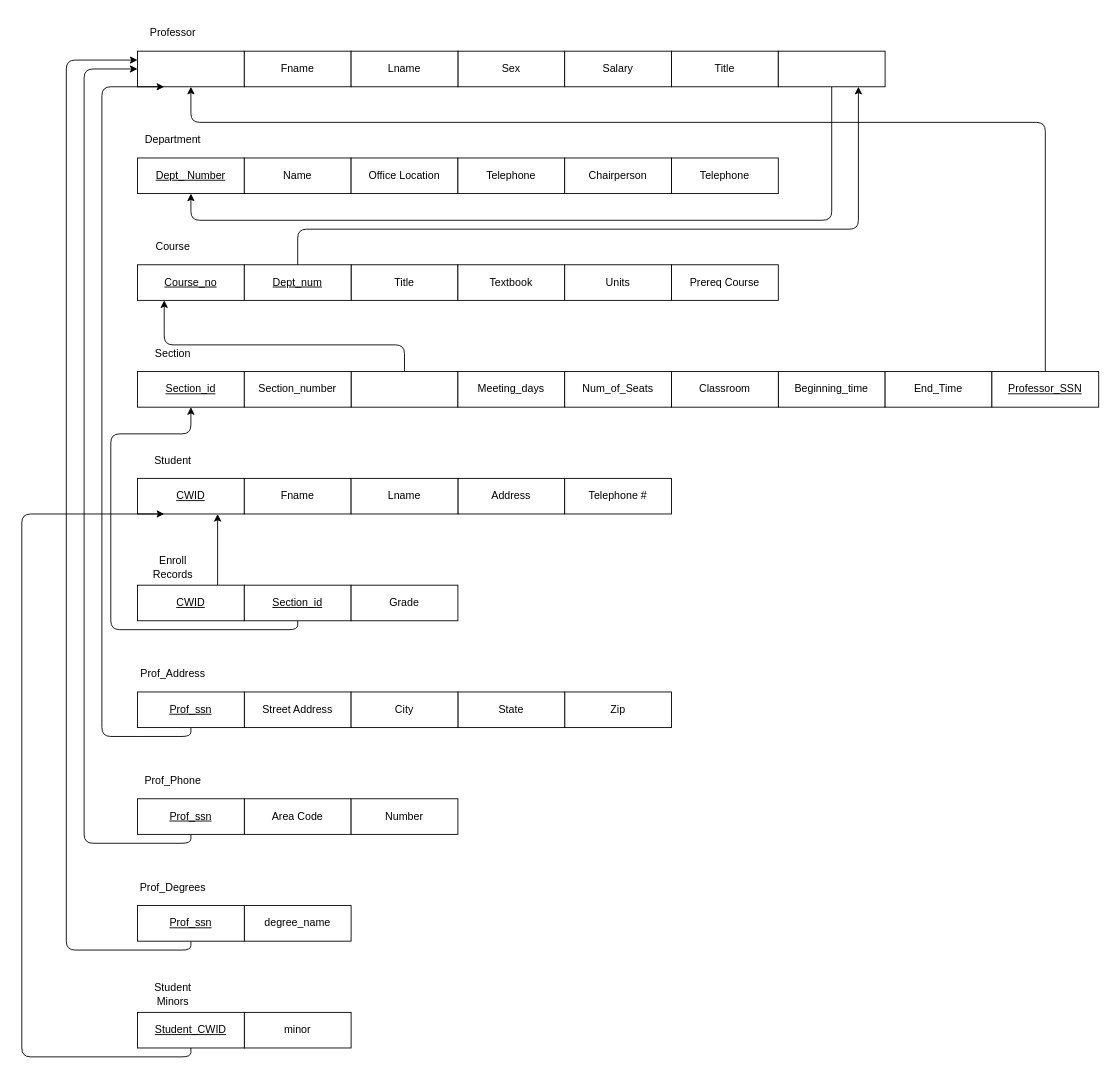
This 1114x1080 diagram has some shape labels left out. The shapes that lost their labels are listed below. From the top down, each one's centre as x and y in pixels, then its label:
At pixel 190 68: "SSN".
At pixel 831 68: "Department_no".
At pixel 404 389: "Course_No .".
